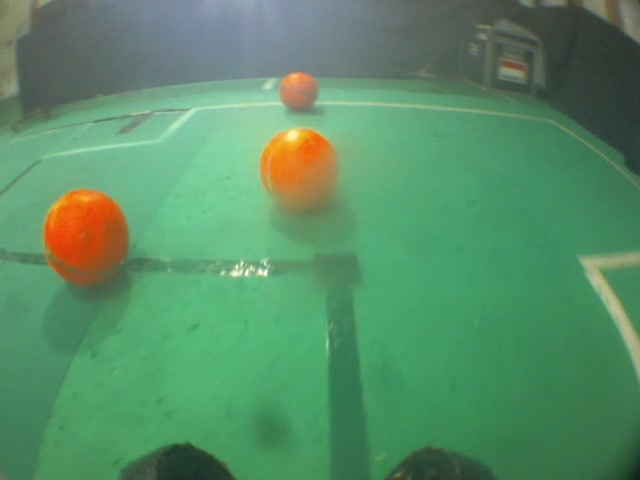ball: (38, 184, 133, 294), (254, 127, 340, 224), (274, 67, 322, 114)
